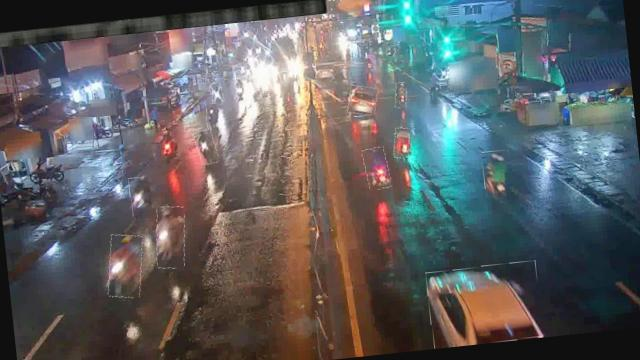Bike: (106, 233, 146, 299), (153, 206, 189, 270), (483, 150, 514, 197), (363, 146, 391, 190), (195, 130, 218, 166), (129, 178, 149, 217), (393, 127, 412, 159), (161, 132, 177, 164), (393, 82, 408, 108), (205, 102, 220, 127), (210, 82, 223, 102), (232, 78, 244, 98)
Car: (426, 260, 544, 348), (346, 84, 379, 118)
